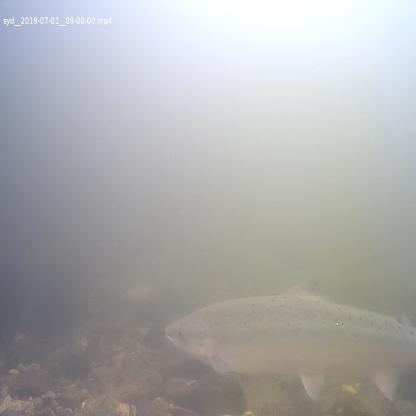salmon: (162, 277, 415, 406)
